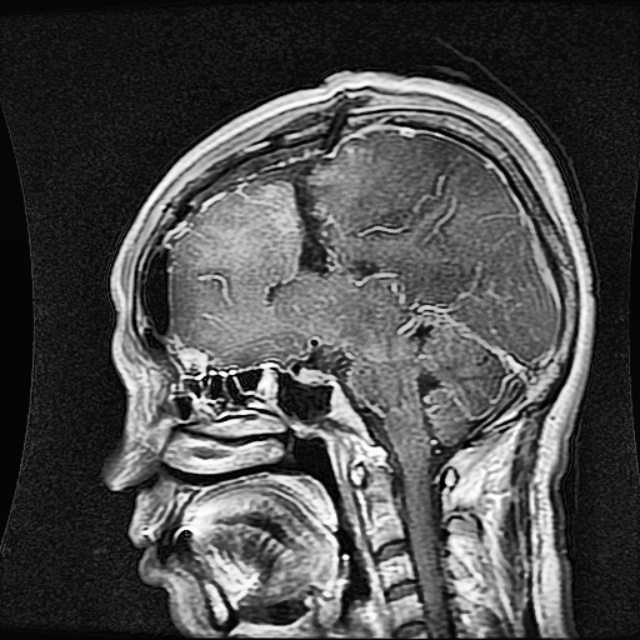Meningioma: (237, 154, 340, 272)
